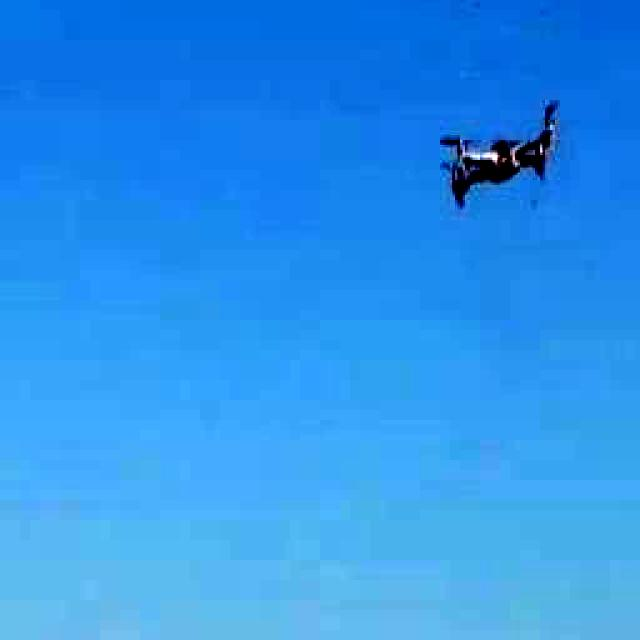bird: (418, 69, 580, 234)
